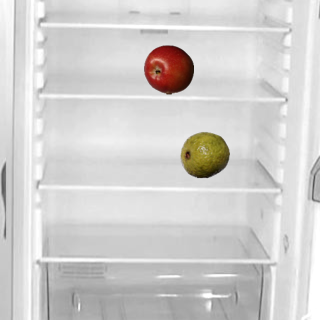Apple Braeburn: (143, 44, 193, 94)
Guava: (179, 129, 229, 179)
